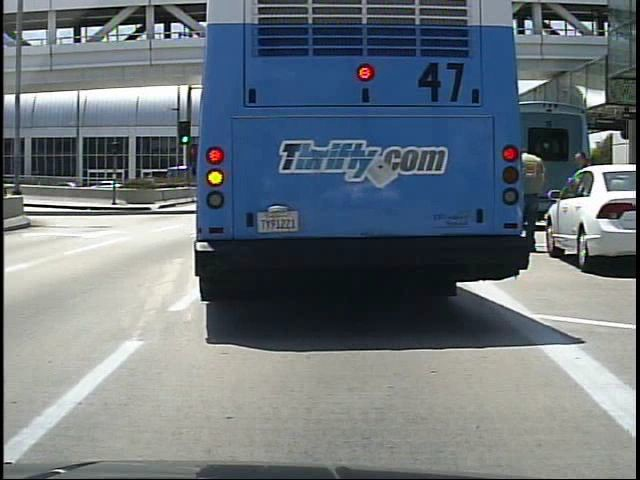person: (519, 144, 552, 256), (568, 149, 595, 255)
